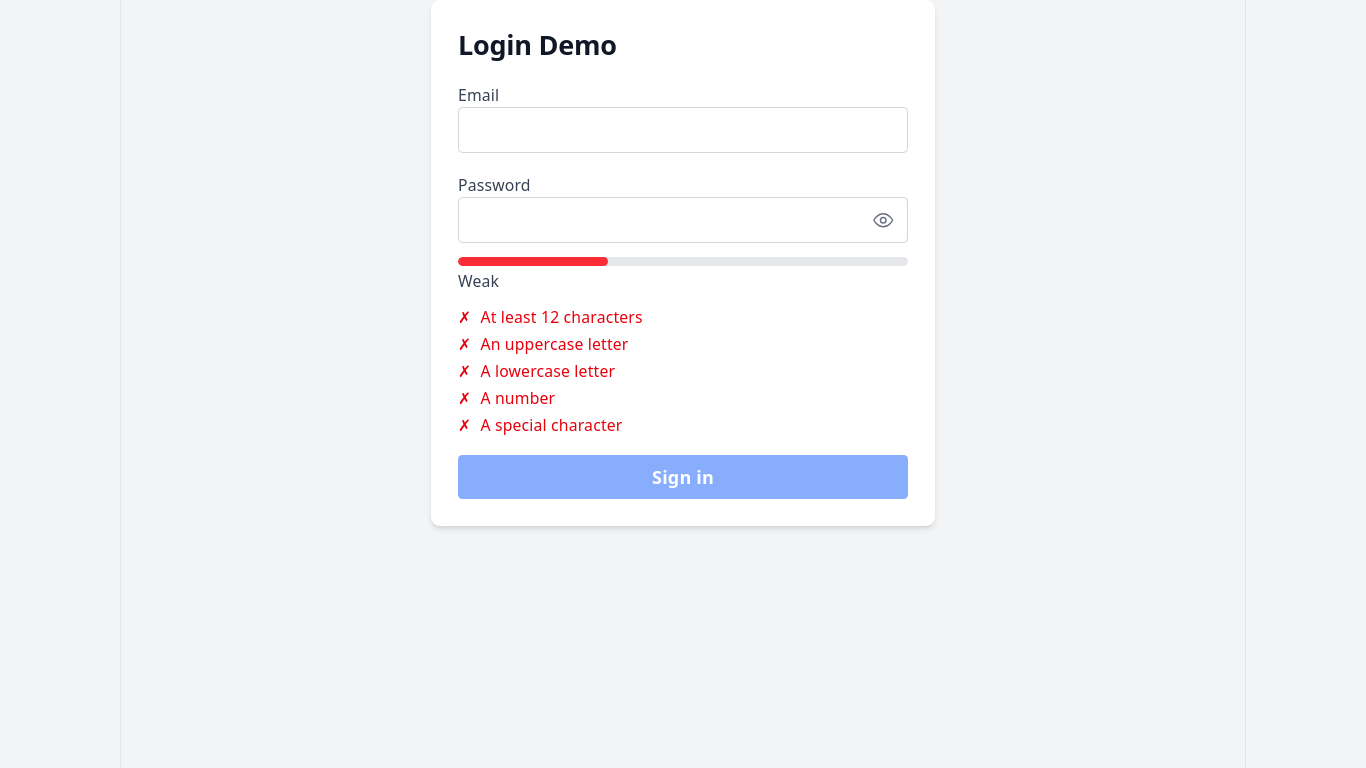
Test: LoginDemo › email validation on blur › shows a red outline and a message when the email format is invalid on blur
Type "not-an-email" into the field labelled "Email" at (683, 130), box [458,107,908,153]
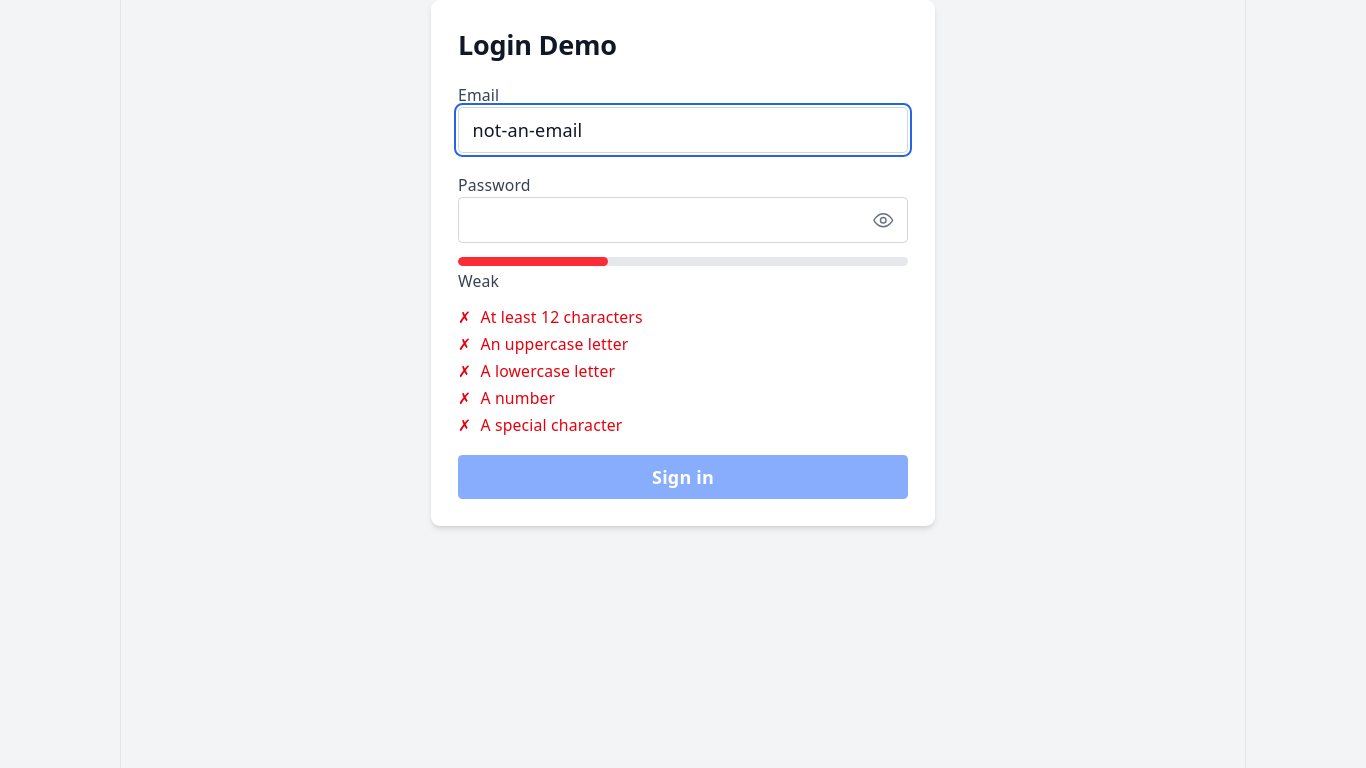
Press Tab
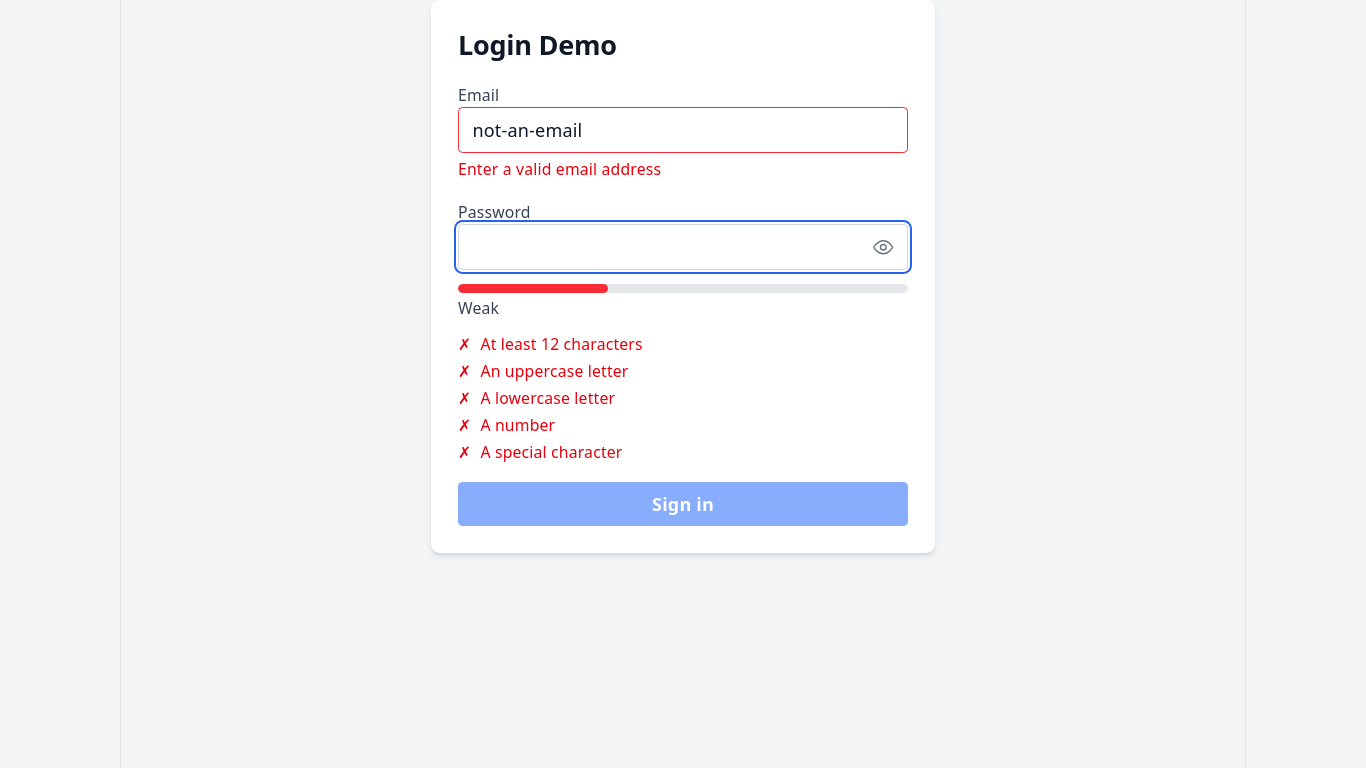
Expected: the text "Enter a valid email address" is shown, [458,158,661,180]
